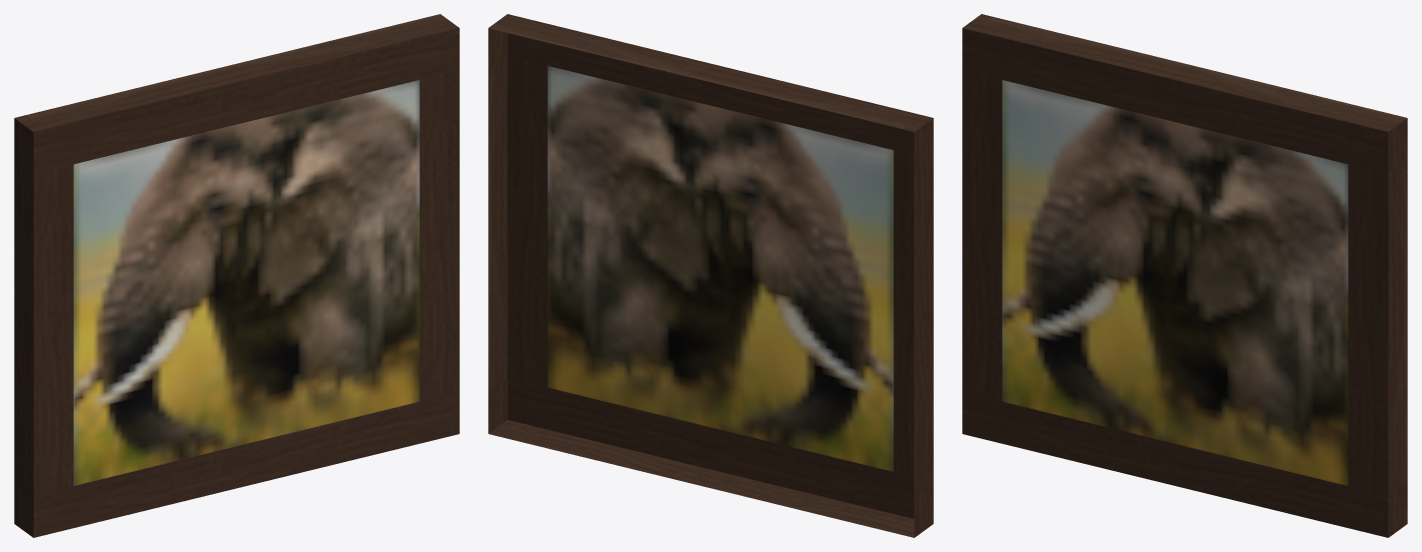
The model's file is Paint_12.fbx.
3 views of the same model, side by side, from view 1: azimuth 30°, elevation 25°; view 2: azimuth 150°, elevation 25°; view 3: azimuth 330°, elevation 25° (orthographic).
Parts seen in each view (by area): view 1: polySurface950; view 2: polySurface950; view 3: polySurface950.
Part boxes in pixels (x1,y1,x2,y2): polySurface950: (14, 14, 459, 537); polySurface950: (488, 14, 933, 537); polySurface950: (962, 14, 1407, 537).
Size of the model in its own units: 1.02 by 0.9271 by 0.08.
